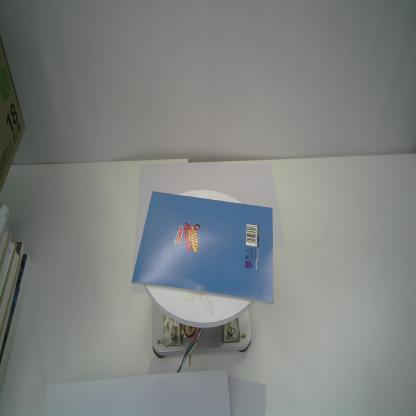Stationery: (131, 190, 274, 307)
